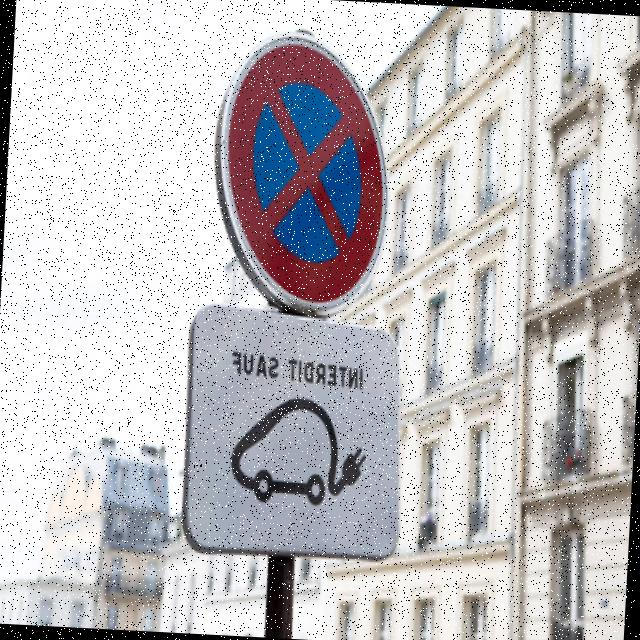no_parking: (214, 25, 399, 322)
